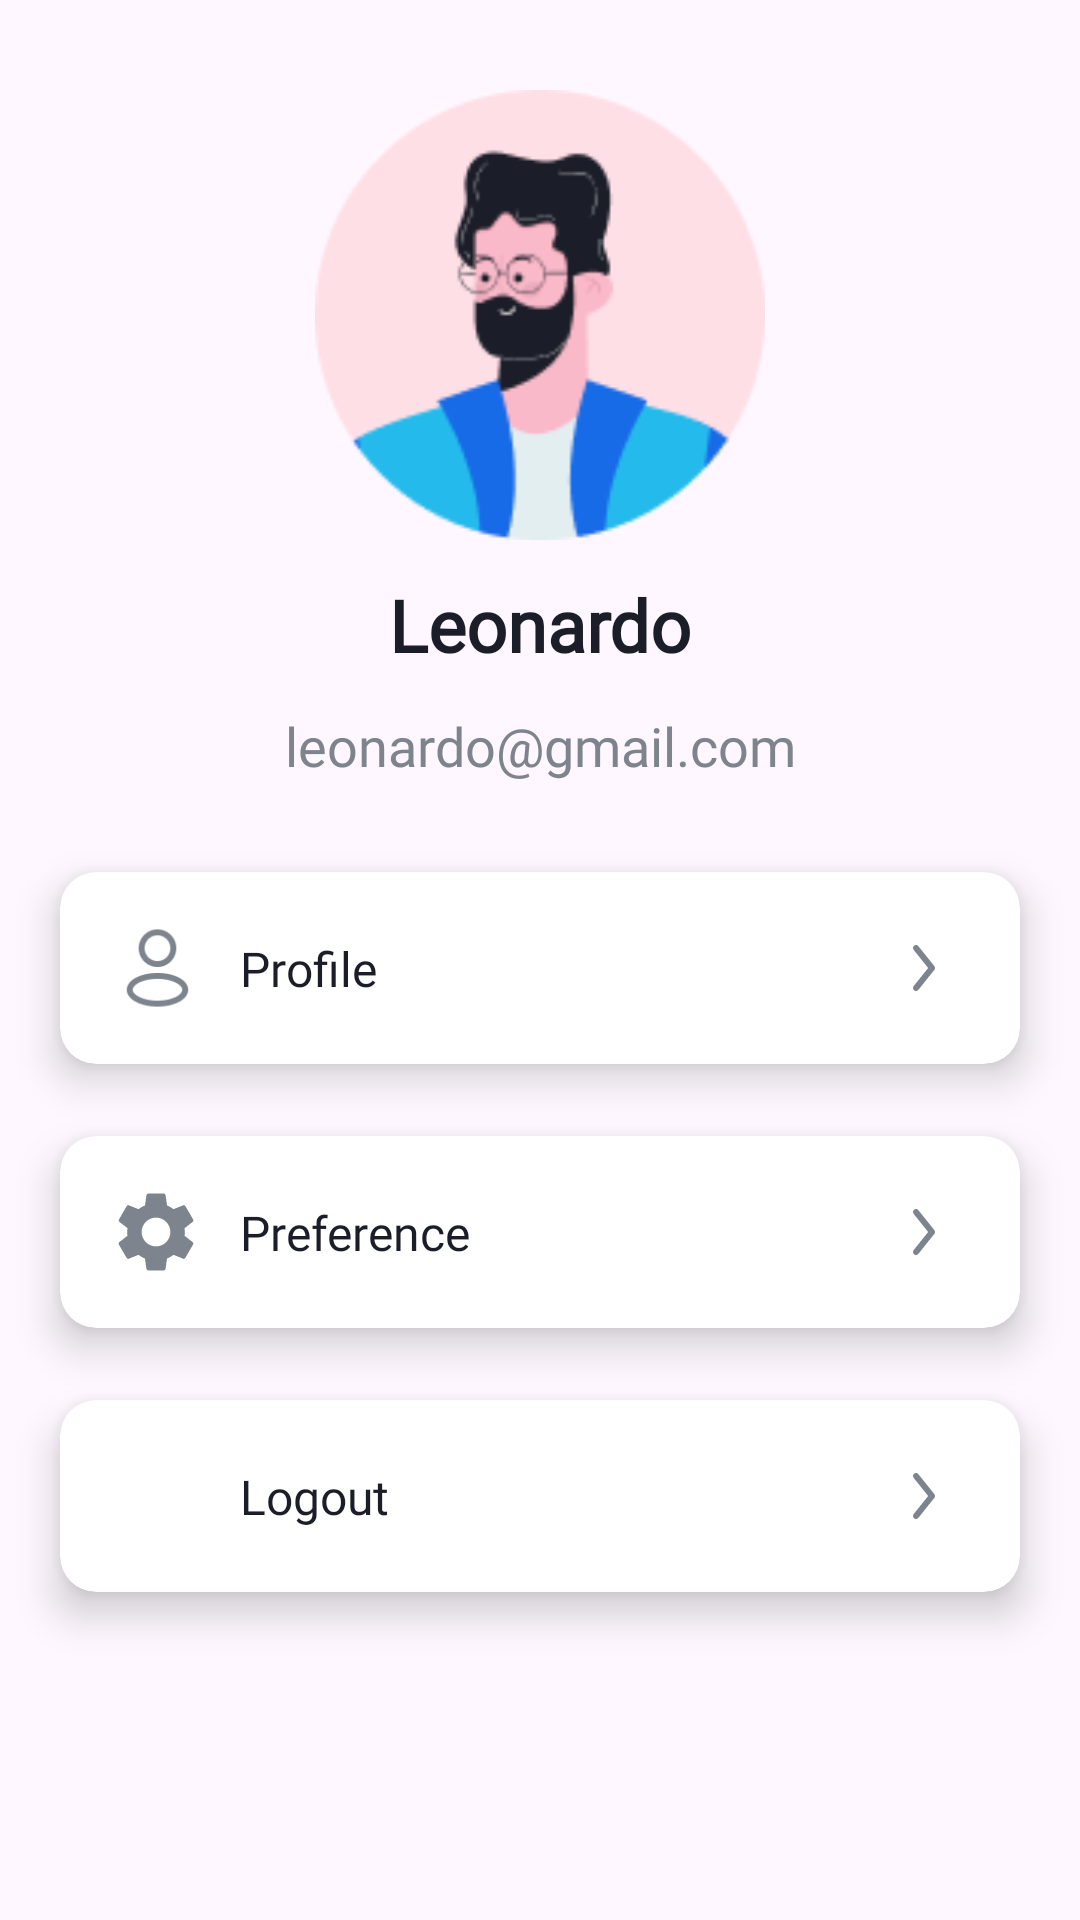

Icons on this 1080w x 1920h Android screen, each with the point to tap as (x,y):
arrow right: (924,968), (924,1232), (924,1496)
settings: (156,1232)
